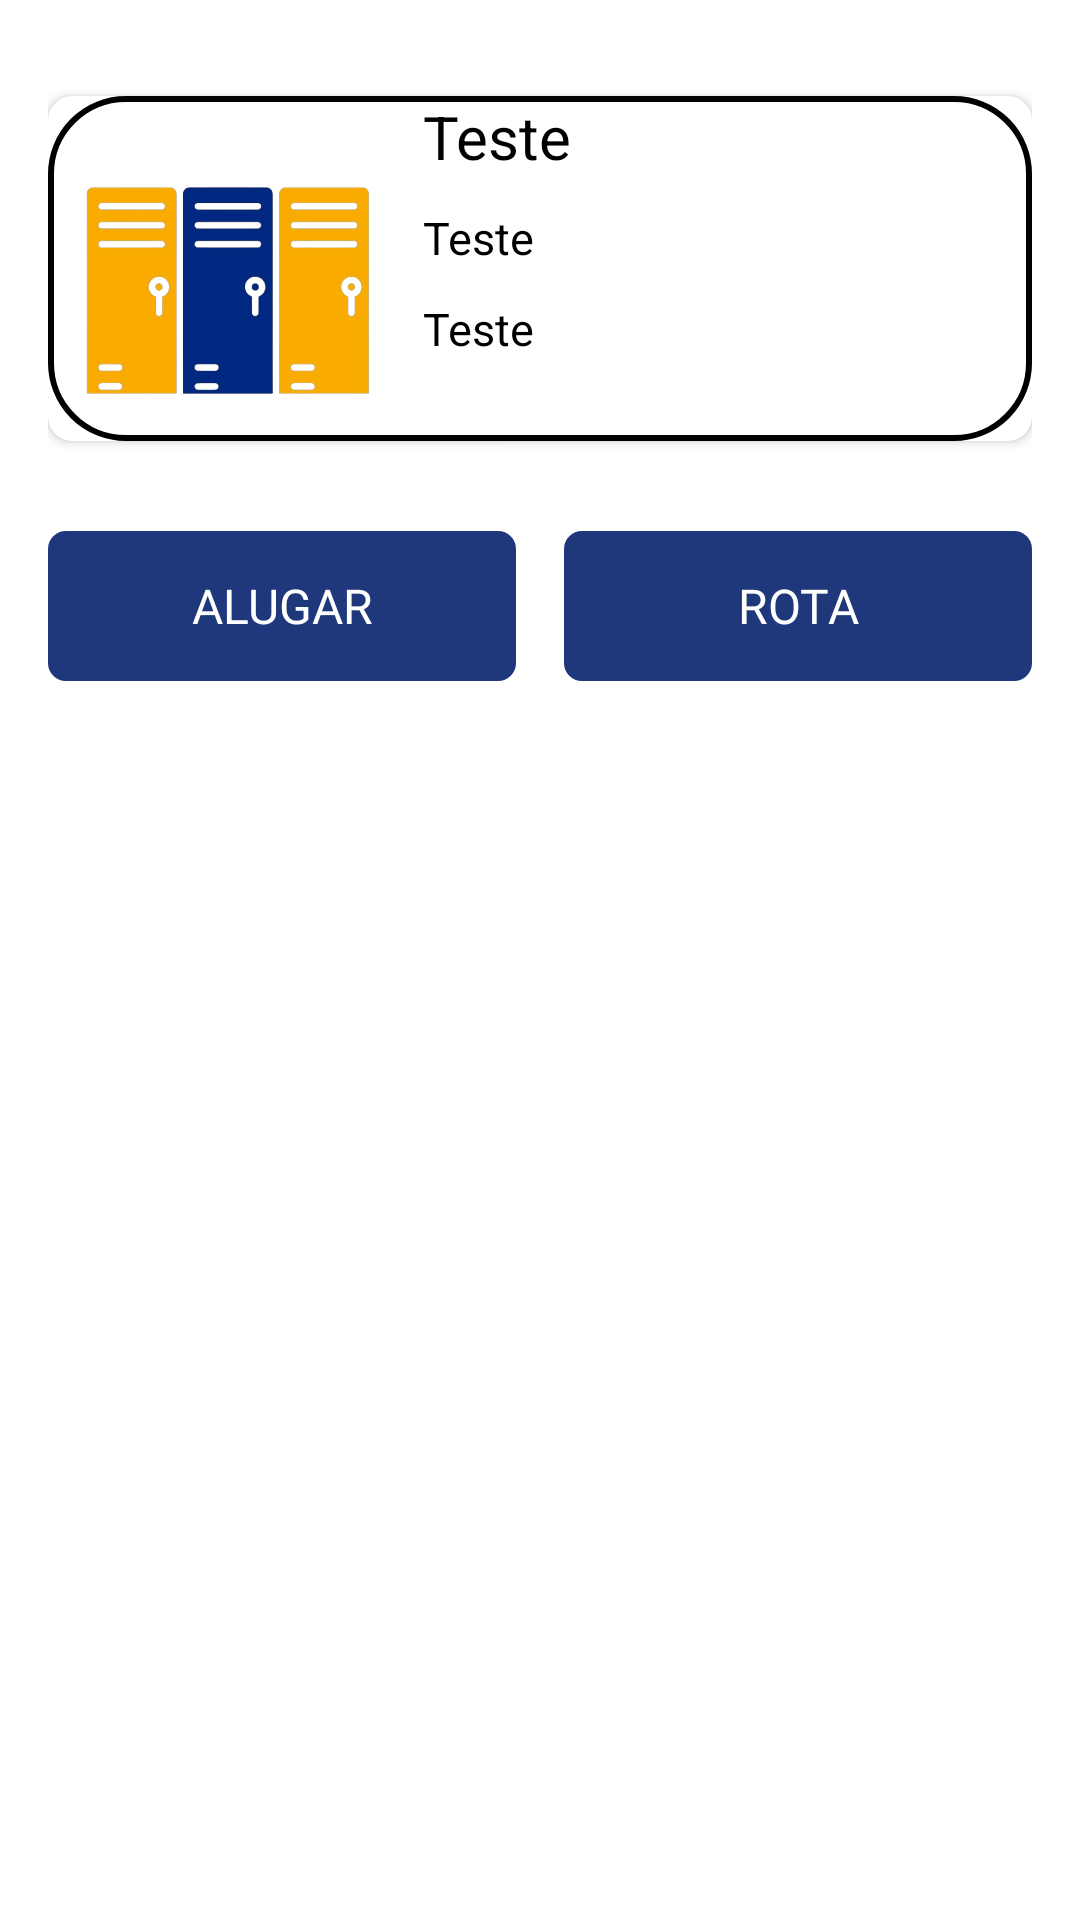

Locate icon controls on the screen. Image size 1080×1920, boxes as bbox(x1, y1, x2, y2).
armario: bbox(87, 187, 369, 394)
